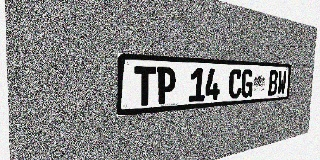1: (189, 68, 206, 102)
4: (205, 68, 220, 101)
B: (268, 70, 278, 96)
C: (228, 69, 242, 99)
G: (241, 69, 253, 98)
P: (156, 67, 176, 105)
T: (134, 66, 156, 107)
W: (277, 70, 287, 95)
